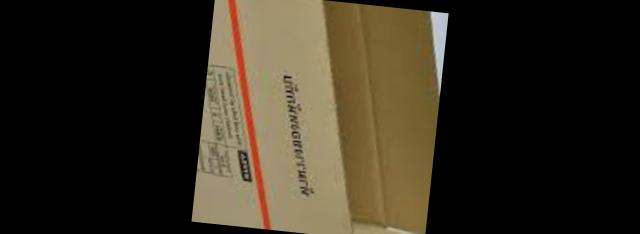cardboard paper: (193, 0, 440, 234)
